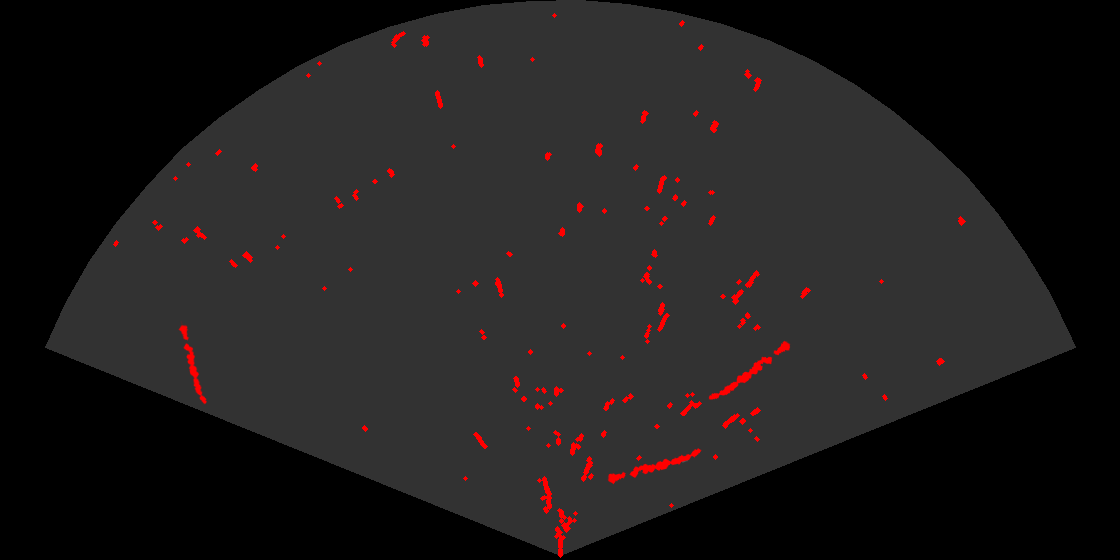chain: (707, 339, 792, 401), (605, 447, 703, 486), (177, 321, 208, 406)
